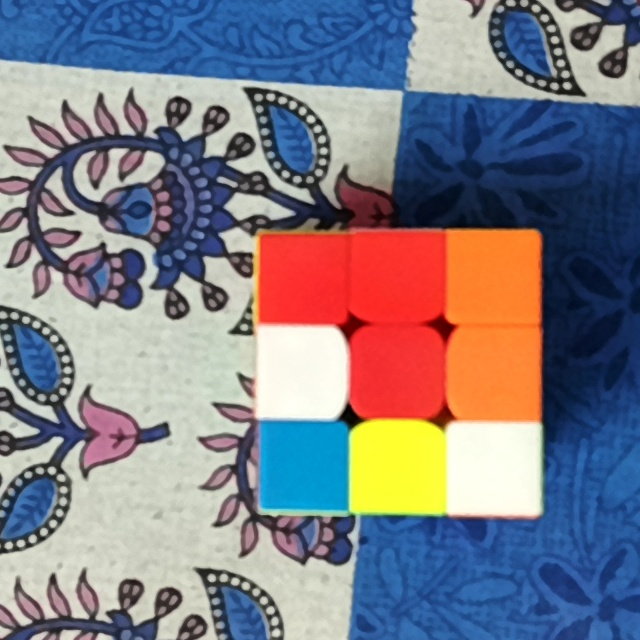tile: (261, 239, 343, 319), (456, 236, 536, 317), (454, 336, 537, 414), (357, 234, 437, 314), (263, 430, 344, 507), (358, 335, 438, 411), (264, 336, 339, 411), (362, 434, 440, 504), (462, 434, 533, 507)
